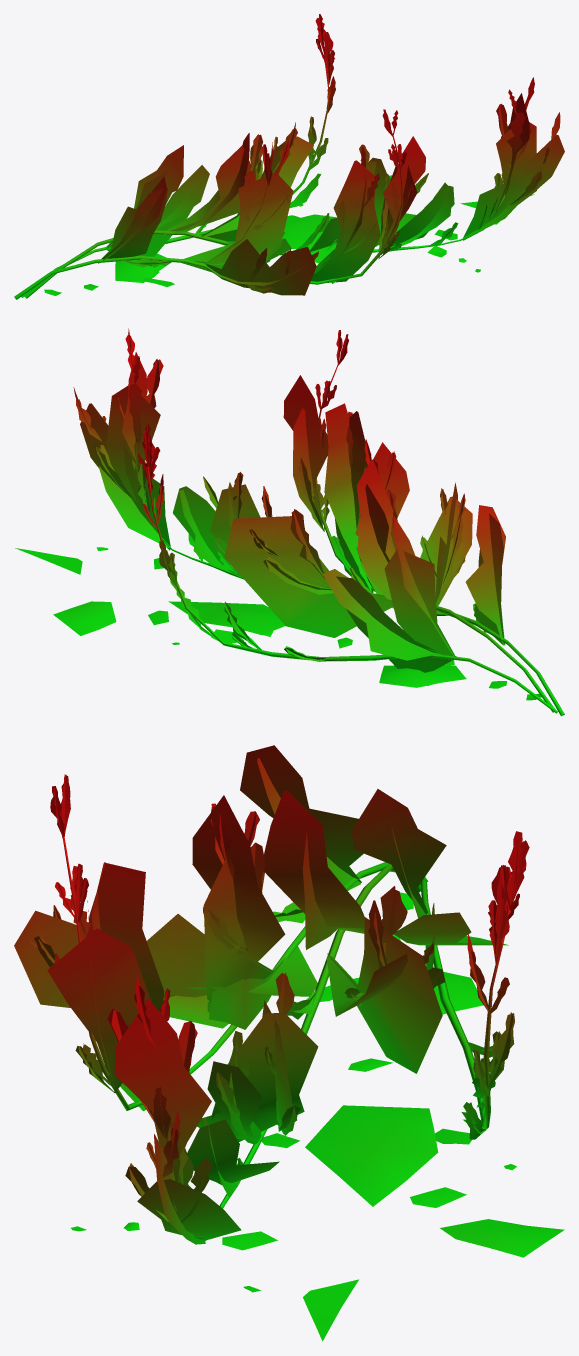
The model's file is River Saltbush_LOD0_Var5_vdfpcgbia.fbx.
The picture shows the model from 3 angles, top to bottom: view 1: azimuth 30°, elevation 25°; view 2: azimuth 150°, elevation 25°; view 3: azimuth 270°, elevation 25°; orthographic projection. The views are drawn at different scales.
Parts seen in each view (by area): view 1: _bdlo_Var5_LOD0; view 2: _bdlo_Var5_LOD0; view 3: _bdlo_Var5_LOD0.
Part boxes in pixels (box(x1,y1,x2,y2)): _bdlo_Var5_LOD0: box(14, 14, 564, 299); _bdlo_Var5_LOD0: box(15, 328, 564, 716); _bdlo_Var5_LOD0: box(14, 745, 564, 1341).
Bounding box in the file's own units: 46.39 × 17.38 × 23.1.
